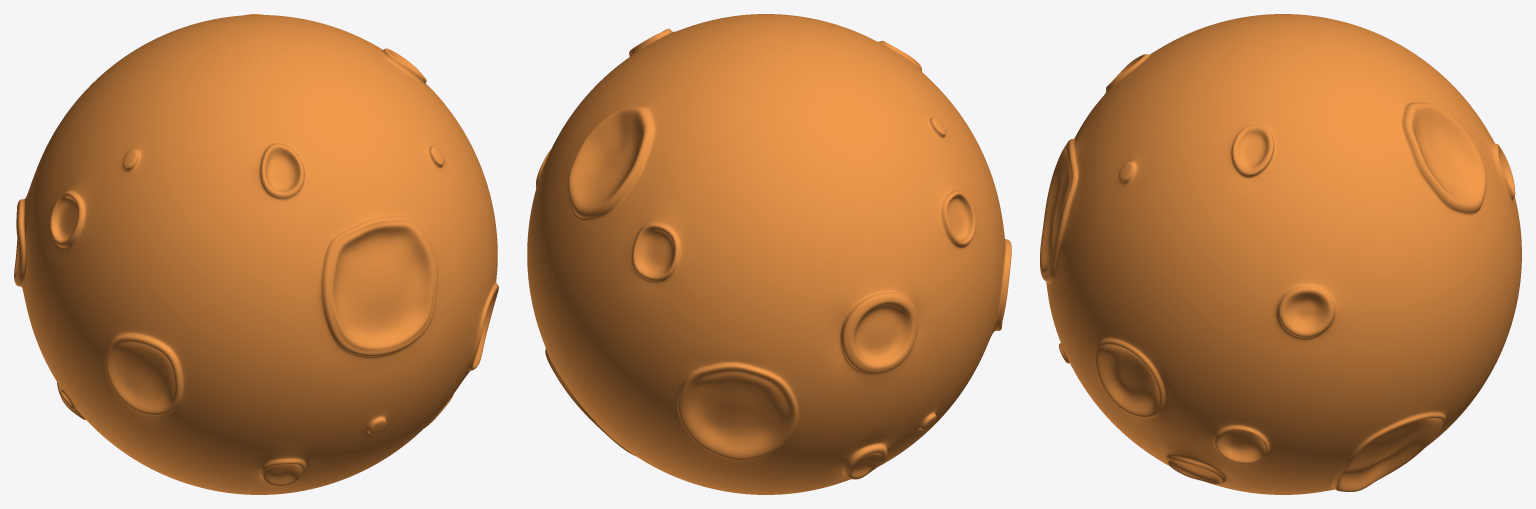
The model's file is planet3.fbx.
The picture shows the model from 3 angles, left to right: view 1: azimuth 30°, elevation 25°; view 2: azimuth 150°, elevation 25°; view 3: azimuth 270°, elevation 25°; orthographic projection.
Parts seen in each view (by area): view 1: Sphere.002; view 2: Sphere.002; view 3: Sphere.002.
Boxes of the visible parts, bbox=[...] form: Sphere.002: bbox=[14, 14, 498, 494]; Sphere.002: bbox=[527, 14, 1011, 494]; Sphere.002: bbox=[1040, 14, 1521, 494].
Bounding box in the file's own units: 372 × 373 × 372.
